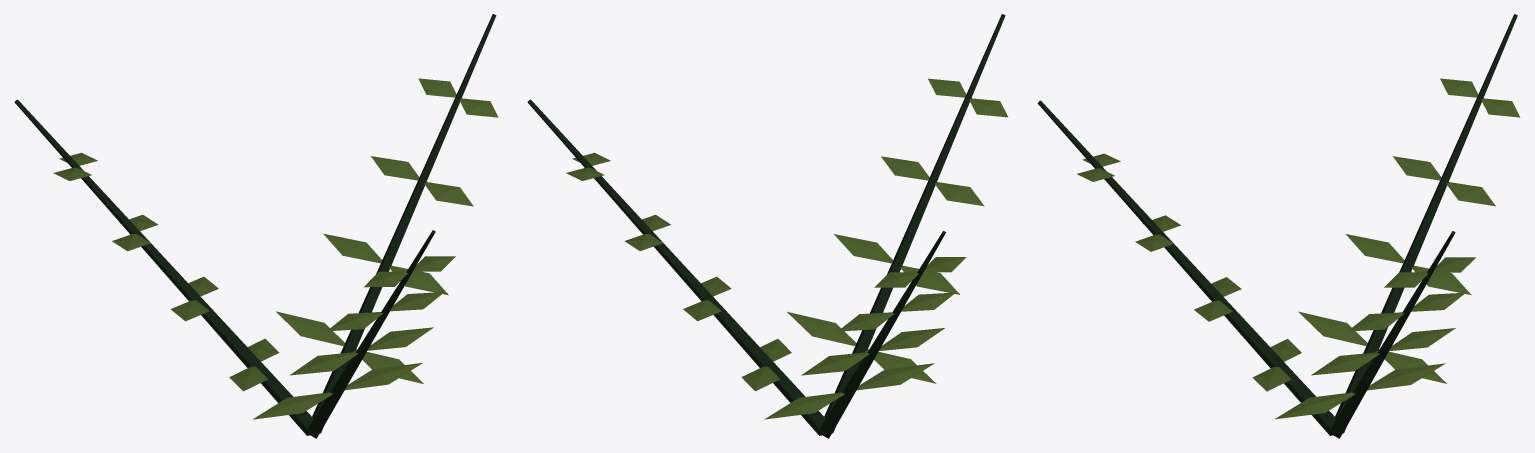
File: Plant_Fern_02.fbx
3 views of the same model, side by side, from view 1: azimuth 30°, elevation 25°; view 2: azimuth 150°, elevation 25°; view 3: azimuth 270°, elevation 25° (orthographic).
Parts seen in each view (by area): view 1: Plant_Fern_02_Mesh; view 2: Plant_Fern_02_Mesh; view 3: Plant_Fern_02_Mesh.
Part boxes in pixels (<box>): Plant_Fern_02_Mesh: <box>14,14,498,438</box>; Plant_Fern_02_Mesh: <box>527,14,1007,438</box>; Plant_Fern_02_Mesh: <box>1037,14,1520,438</box>.
Bounding box in the file's own units: 0.8663 × 0.5924 × 0.8065.
1 material, 1 textured.
